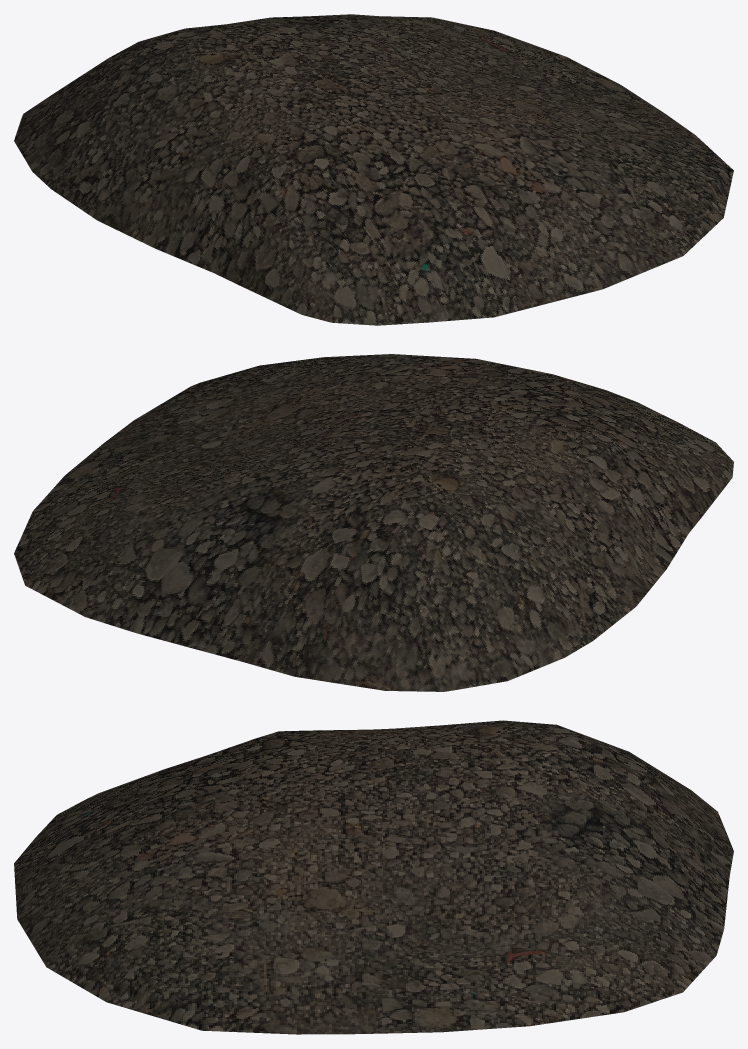
File: gravel_pile_hr_2.glb
3 views of the same model, one above another, from view 1: azimuth 30°, elevation 25°; view 2: azimuth 150°, elevation 25°; view 3: azimuth 270°, elevation 25° (orthographic). The views are drawn at different scales.
Parts seen in each view (by area): view 1: gravel_pile_hr_2; view 2: gravel_pile_hr_2; view 3: gravel_pile_hr_2.
Boxes of the visible parts, x1,y1,x2,y2 form: gravel_pile_hr_2: [14, 14, 733, 325]; gravel_pile_hr_2: [14, 354, 733, 691]; gravel_pile_hr_2: [14, 720, 733, 1034].
Bounding box in the file's own units: 1.49 × 0.2791 × 1.66.
1 material, 1 textured.
